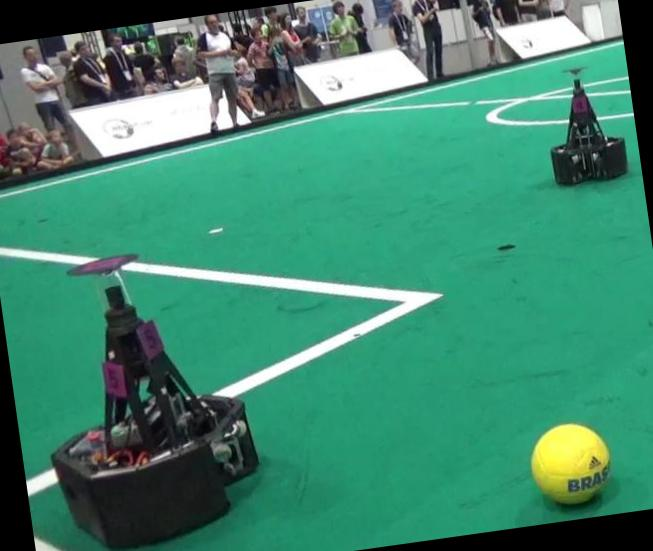ball: (530, 422, 609, 503)
robot: (51, 284, 259, 547), (550, 77, 626, 183)
